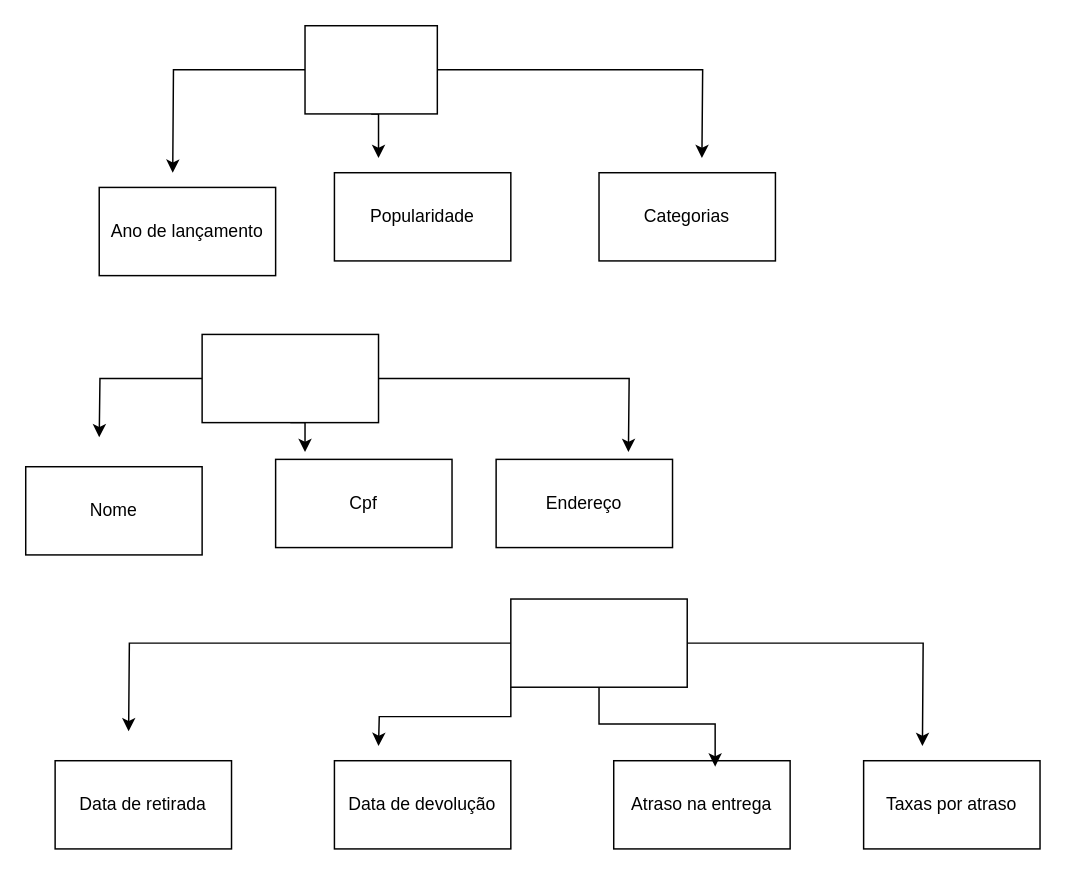
This 1066x875 diagram has some shape labels left out. Here are the shapes that lost their labels. From the top down, the centre of each, then its label:
At (x=370, y=69): "Livros".
At (x=290, y=378): "Usuários".
At (x=598, y=642): "Histórico de empréstimo".
